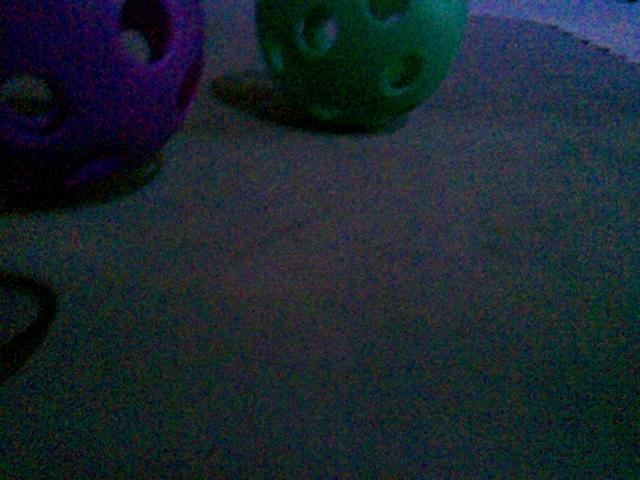Green: (252, 0, 467, 130)
Purple: (1, 1, 206, 211)
